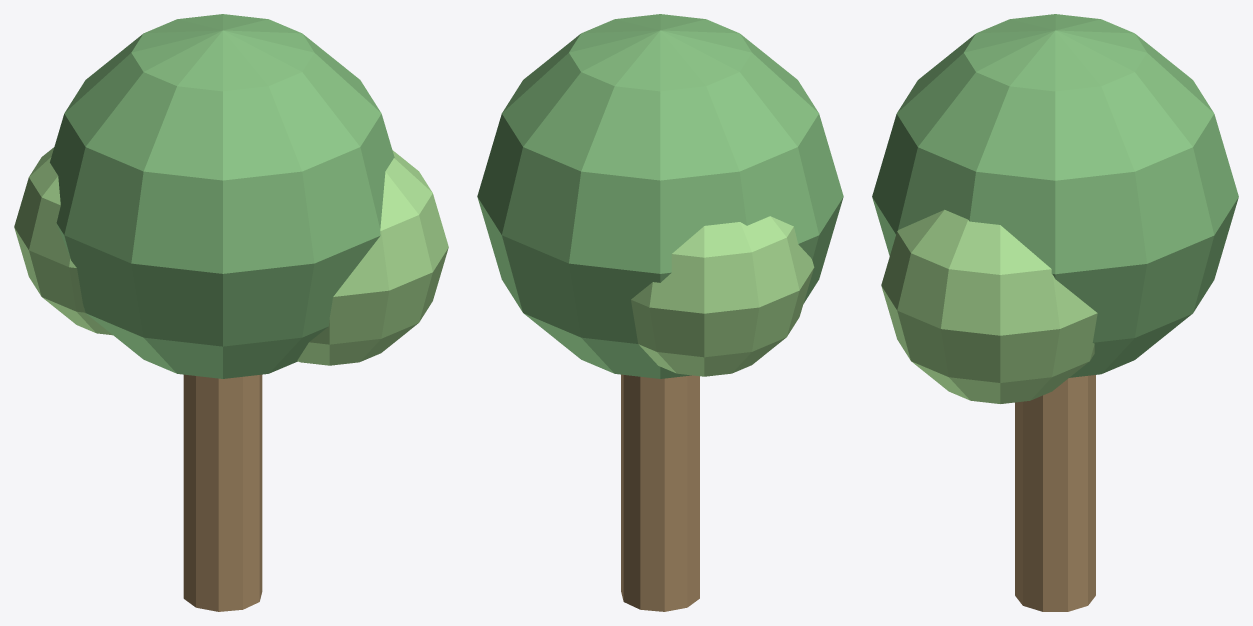
File: SM_Env_Tree_01.glb
The picture shows the model from 3 angles, left to right: view 1: azimuth 30°, elevation 25°; view 2: azimuth 150°, elevation 25°; view 3: azimuth 270°, elevation 25°; orthographic projection.
Parts seen in each view (by area): view 1: SM_Tree_Leaf1, SM_Tree_Trunk, SM_Tree_Leaf2, SM_Tree_Leaf3; view 2: SM_Tree_Leaf1, SM_Tree_Leaf3, SM_Tree_Trunk; view 3: SM_Tree_Leaf1, SM_Tree_Leaf2, SM_Tree_Trunk.
Part boxes in pixels (x1,y1,x2,y2): SM_Tree_Leaf1: (50,14,394,378); SM_Tree_Trunk: (183,374,262,611); SM_Tree_Leaf2: (297,150,448,365); SM_Tree_Leaf3: (14,147,112,335); SM_Tree_Leaf1: (477,14,843,378); SM_Tree_Leaf3: (631,216,814,376); SM_Tree_Trunk: (621,374,699,611); SM_Tree_Leaf1: (872,14,1238,377); SM_Tree_Leaf2: (881,209,1097,403); SM_Tree_Trunk: (1015,375,1095,611).
Size of the model in its own units: 2.2 by 3.4 by 2.
